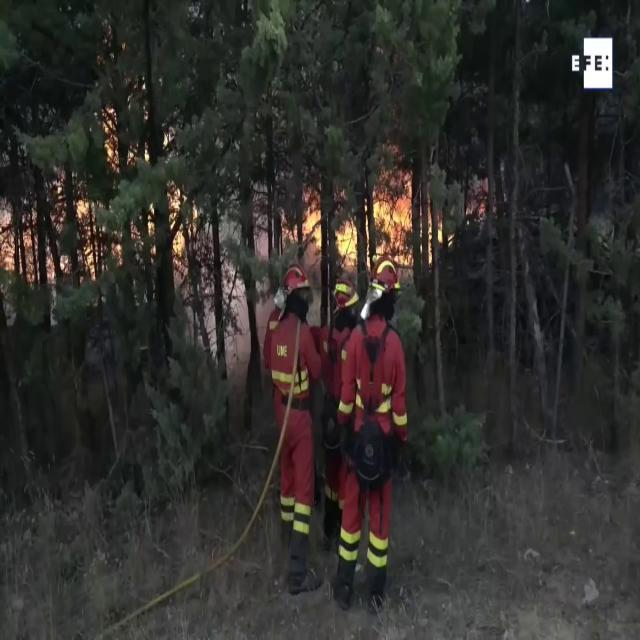Fire: (298, 176, 417, 282)
